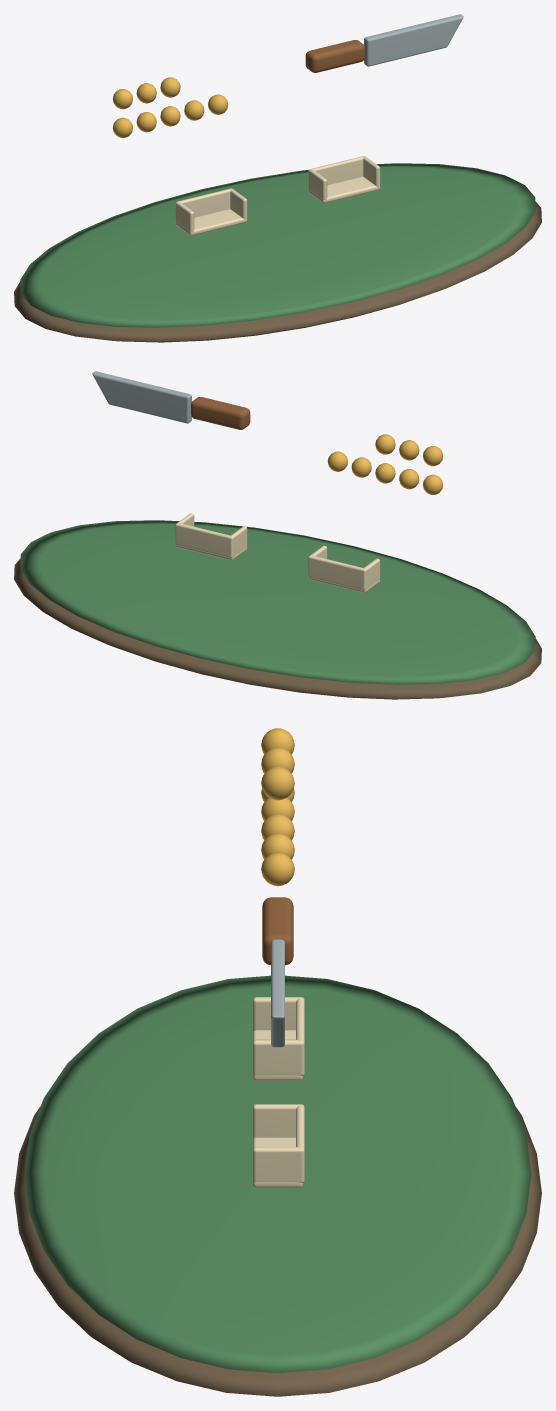
File: complete-first-divide-eight.glb
3 renders of one model, top to bottom at view 1: azimuth 30°, elevation 25°; view 2: azimuth 150°, elevation 25°; view 3: azimuth 270°, elevation 25°, orthographic. The views are drawn at different scales.
Visible parts, largest first — view 1: complete-first-divide-eight_surface_01, complete-first-divide-eight_surface_00, complete-first-divide-eight_surface_05, complete-first-divide-eight_surface_04, complete-first-divide-eight_surface_02, complete-first-divide-eight_surface_03; view 2: complete-first-divide-eight_surface_01, complete-first-divide-eight_surface_00, complete-first-divide-eight_surface_05, complete-first-divide-eight_surface_04, complete-first-divide-eight_surface_02, complete-first-divide-eight_surface_03; view 3: complete-first-divide-eight_surface_01, complete-first-divide-eight_surface_00, complete-first-divide-eight_surface_05, complete-first-divide-eight_surface_02, complete-first-divide-eight_surface_03, complete-first-divide-eight_surface_04.
Boxes of the visible parts, x1,y1,x2,y2 form: complete-first-divide-eight_surface_01: [20, 163, 535, 327]; complete-first-divide-eight_surface_00: [14, 201, 541, 342]; complete-first-divide-eight_surface_05: [175, 156, 380, 235]; complete-first-divide-eight_surface_04: [364, 14, 463, 66]; complete-first-divide-eight_surface_02: [112, 77, 228, 137]; complete-first-divide-eight_surface_03: [305, 40, 364, 72]; complete-first-divide-eight_surface_01: [20, 520, 535, 684]; complete-first-divide-eight_surface_00: [14, 558, 541, 699]; complete-first-divide-eight_surface_05: [175, 513, 380, 592]; complete-first-divide-eight_surface_04: [92, 371, 191, 423]; complete-first-divide-eight_surface_02: [327, 434, 443, 494]; complete-first-divide-eight_surface_03: [191, 397, 250, 429]; complete-first-divide-eight_surface_01: [24, 975, 531, 1373]; complete-first-divide-eight_surface_00: [14, 1106, 541, 1396]; complete-first-divide-eight_surface_05: [252, 997, 304, 1187]; complete-first-divide-eight_surface_02: [261, 728, 294, 886]; complete-first-divide-eight_surface_03: [262, 897, 293, 965]; complete-first-divide-eight_surface_04: [271, 939, 284, 1047].
Bounding box in the file's own units: 4.56 × 1.9 × 2.5.
